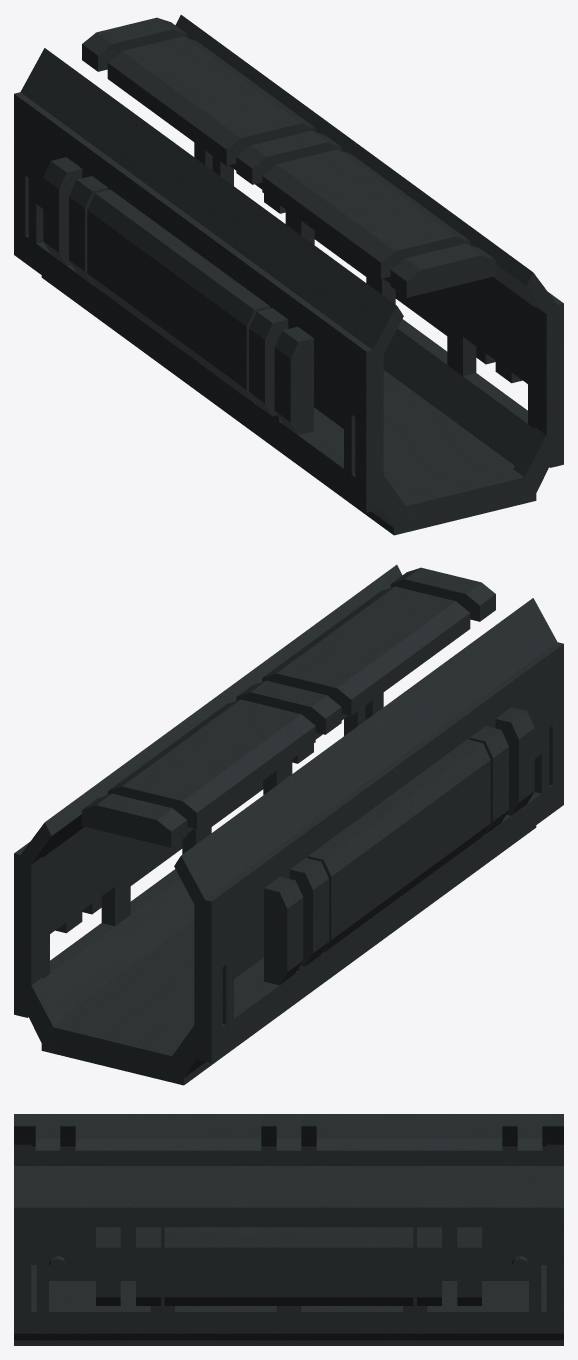
Rendered from benelli_rail.glb.
The picture shows the model from 3 angles, top to bottom: view 1: azimuth 30°, elevation 25°; view 2: azimuth 150°, elevation 25°; view 3: azimuth 270°, elevation 25°; orthographic projection. The views are drawn at different scales.
Visible parts, largest first — view 1: handguard__benelli_rail_LOD0_RAID_Secondary_Original_steel, handguard__benelli_rail_LOD1_RAID_Secondary_Original_steel; view 2: handguard__benelli_rail_LOD0_RAID_Secondary_Original_steel, handguard__benelli_rail_LOD1_RAID_Secondary_Original_steel; view 3: handguard__benelli_rail_LOD0_RAID_Secondary_Original_steel, handguard__benelli_rail_LOD1_RAID_Secondary_Original_steel.
Part boxes in pixels (bbox=[...]): handguard__benelli_rail_LOD0_RAID_Secondary_Original_steel: bbox=[14, 15, 563, 535]; handguard__benelli_rail_LOD1_RAID_Secondary_Original_steel: bbox=[29, 37, 535, 499]; handguard__benelli_rail_LOD0_RAID_Secondary_Original_steel: bbox=[14, 565, 563, 1085]; handguard__benelli_rail_LOD1_RAID_Secondary_Original_steel: bbox=[43, 587, 549, 1026]; handguard__benelli_rail_LOD0_RAID_Secondary_Original_steel: bbox=[14, 1114, 563, 1345]; handguard__benelli_rail_LOD1_RAID_Secondary_Original_steel: bbox=[38, 1115, 540, 1333].
Size of the model in its own units: 0.126 by 0.13 by 0.315.
Materials: 1 (1 with a texture image).
